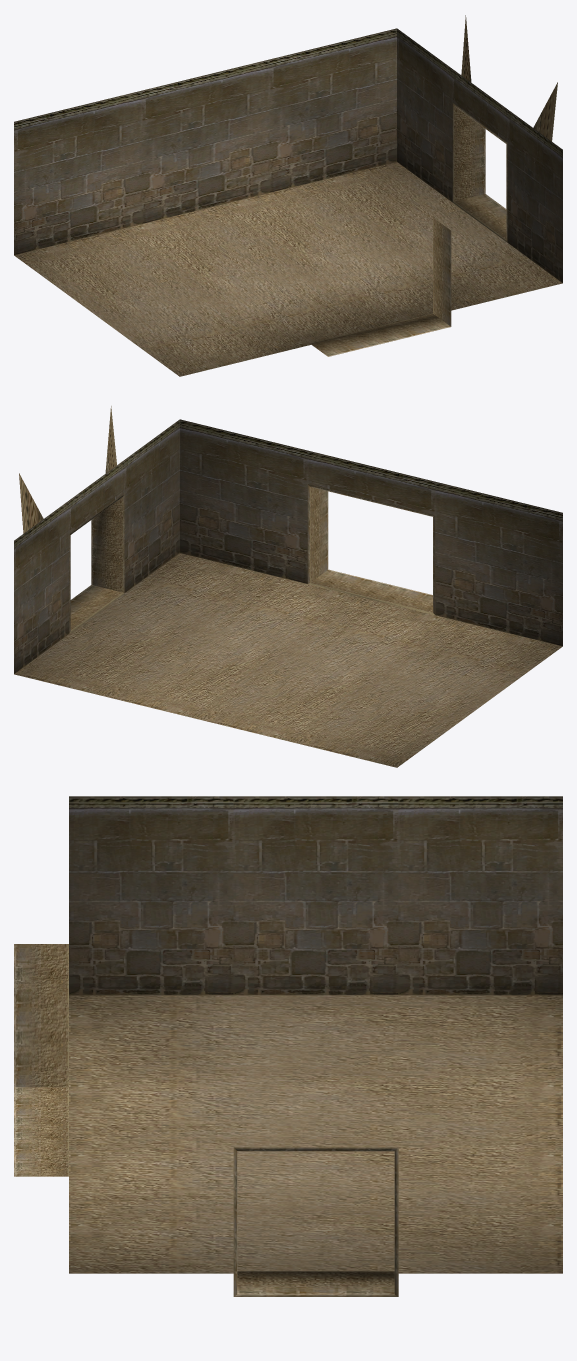
The model's file is M7Z2_WallSection4_Room.glb.
3 views of the same model, one above another, from view 1: azimuth 30°, elevation 25°; view 2: azimuth 150°, elevation 25°; view 3: azimuth 270°, elevation 25° (orthographic). The views are drawn at different scales.
Parts seen in each view (by area): view 1: M7Z2_WALLSECTION4_ROOM; view 2: M7Z2_WALLSECTION4_ROOM; view 3: M7Z2_WALLSECTION4_ROOM.
Part boxes in pixels (x1,y1,x2,y2): M7Z2_WALLSECTION4_ROOM: (14,15,562,376); M7Z2_WALLSECTION4_ROOM: (14,406,562,767); M7Z2_WALLSECTION4_ROOM: (14,796,562,1296).
Size of the model in its own units: 13 by 6 by 10.
Materials: 4 (4 with a texture image).
